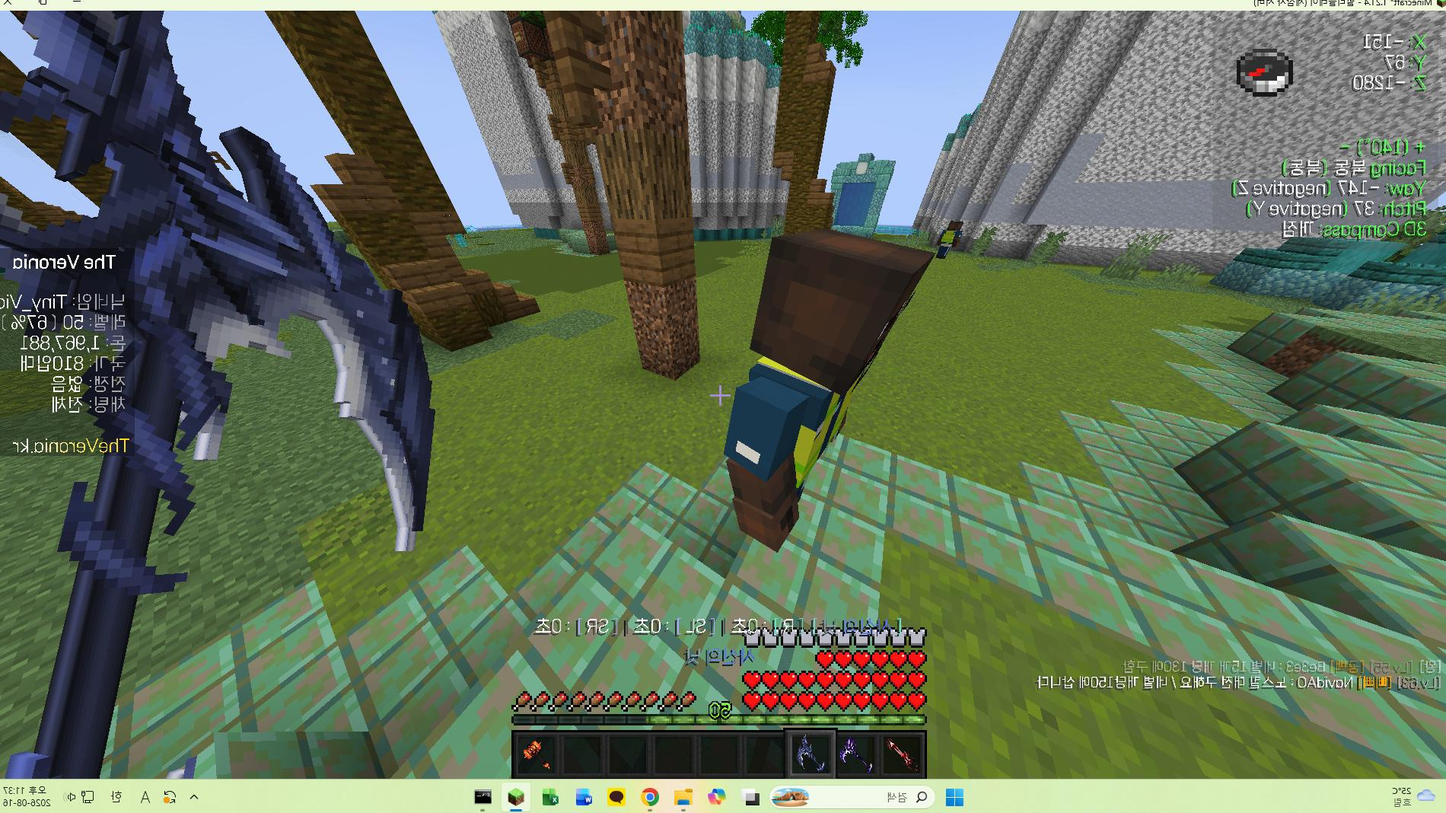Guardian: (725, 230, 928, 552)
